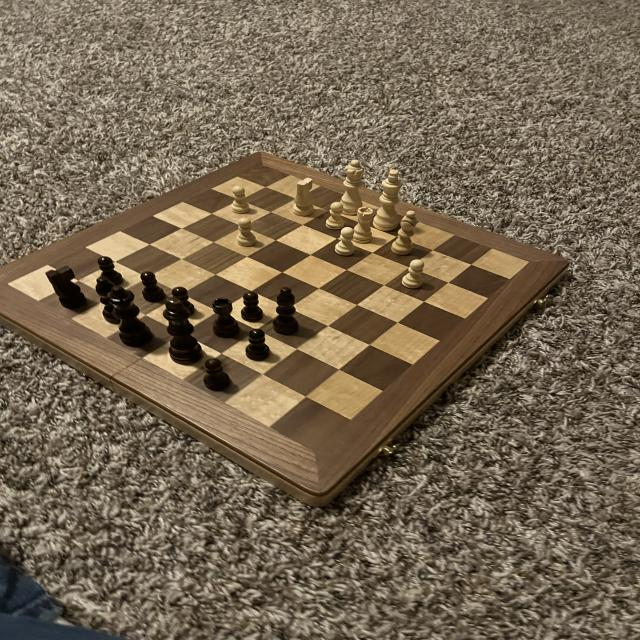bishop: (93, 275, 132, 325), (270, 284, 303, 338)
black-bishop: (159, 296, 207, 369)
black-king: (44, 263, 89, 312)
black-knight: (93, 253, 131, 287), (201, 356, 233, 392), (243, 327, 274, 364), (167, 281, 197, 317), (238, 289, 266, 327), (136, 268, 166, 303)
black-pawn: (108, 283, 153, 353)
black-queen: (209, 294, 242, 340)
black-rook: (390, 208, 422, 257)
white-bishop: (373, 166, 408, 233)
white-king: (290, 177, 322, 220)
white-knight: (397, 255, 428, 292), (332, 226, 360, 256), (235, 216, 260, 248), (324, 200, 350, 230), (230, 183, 253, 215)
white-pawn: (336, 156, 371, 213)
white-queen: (348, 204, 379, 245)
